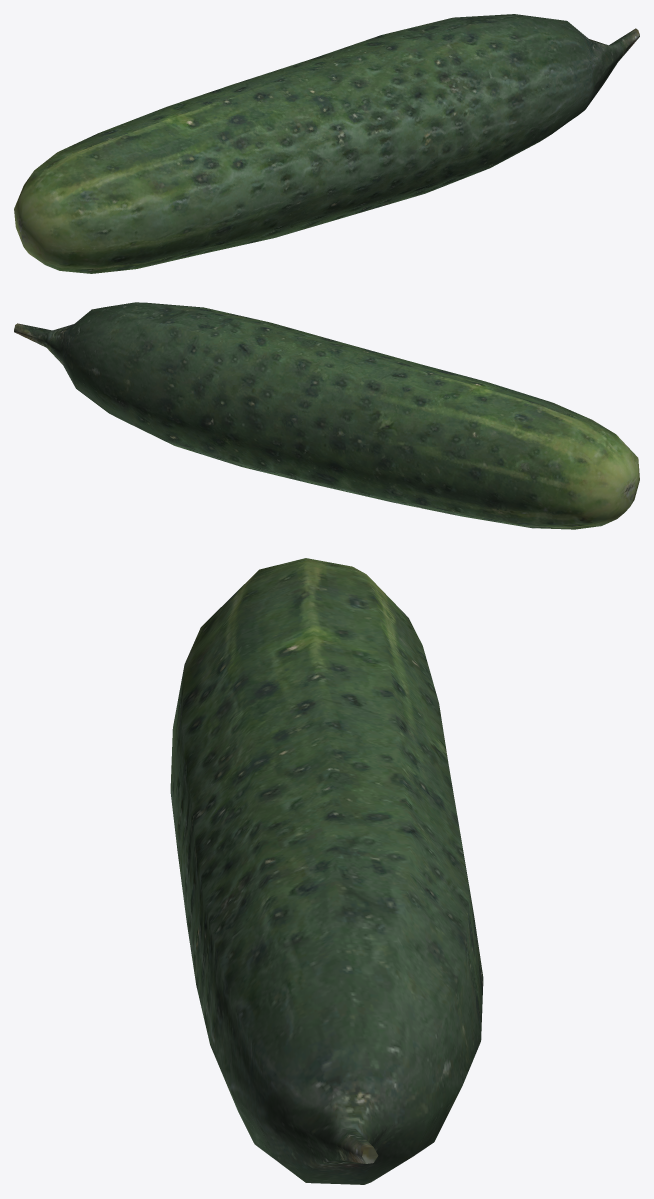
The model's file is Огурец 4 Вариант.dae.
3 renders of one model, top to bottom at view 1: azimuth 30°, elevation 25°; view 2: azimuth 150°, elevation 25°; view 3: azimuth 270°, elevation 25°, orthographic. The views are drawn at different scales.
Visible parts, largest first — view 1: SM_foo_cucumber_01_d.001; view 2: SM_foo_cucumber_01_d.001; view 3: SM_foo_cucumber_01_d.001.
Part boxes in pixels (x1=…): SM_foo_cucumber_01_d.001: x1=14, y1=14, x2=639, y2=273; SM_foo_cucumber_01_d.001: x1=14, y1=302, x2=639, y2=529; SM_foo_cucumber_01_d.001: x1=170, y1=558, x2=483, y2=1184.
Bounding box in the file's own units: 18.62 × 4.19 × 4.16.
